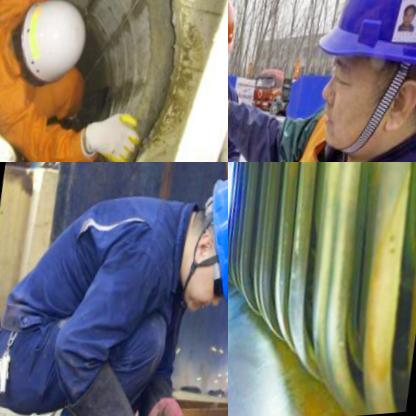helmet: (281, 0, 416, 162), (172, 163, 228, 324), (8, 0, 97, 97), (228, 0, 245, 94)
